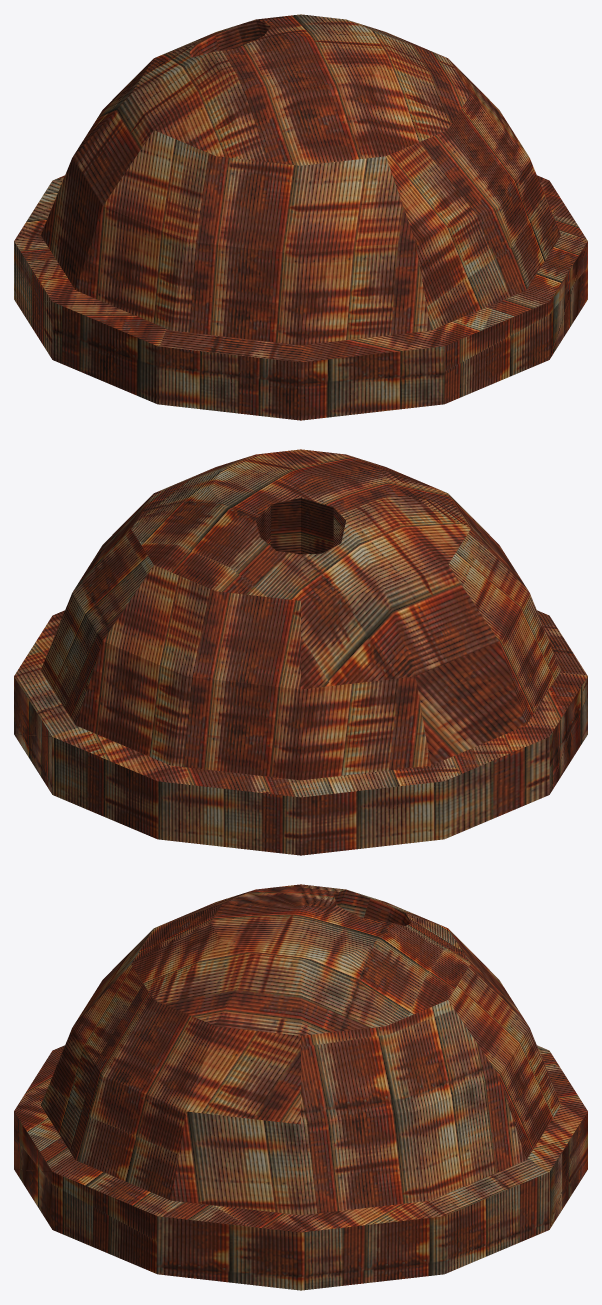
3 views of the same model, one above another, from view 1: azimuth 30°, elevation 25°; view 2: azimuth 150°, elevation 25°; view 3: azimuth 270°, elevation 25° (orthographic).
Parts seen in each view (by area): view 1: 大砲; view 2: 大砲; view 3: 大砲.
Part boxes in pixels (<box>): 大砲: <box>14,14,587,420</box>; 大砲: <box>14,449,587,855</box>; 大砲: <box>14,884,587,1290</box>.
Bounding box in the file's own units: 98.77 × 49.59 × 98.77.
Materials: 1 (1 with a texture image).
